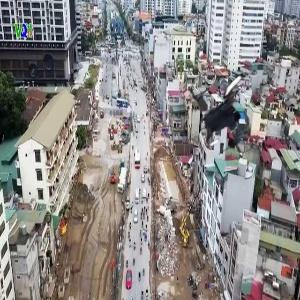drone: (182, 62, 280, 160)
